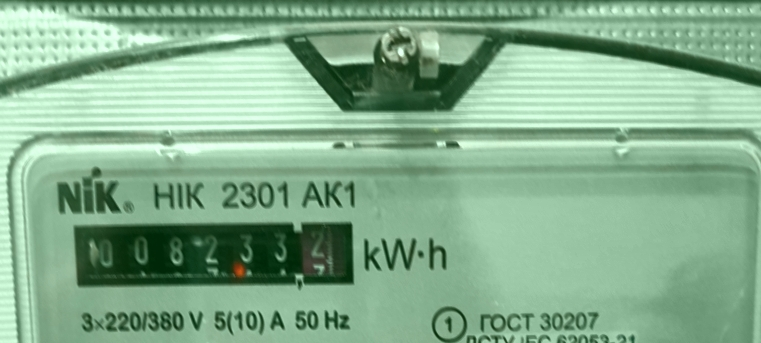0: (94, 236, 115, 269), (131, 234, 149, 266)
2: (200, 233, 220, 266), (308, 228, 326, 259)
3: (236, 232, 254, 264), (272, 230, 289, 262)
8: (166, 234, 184, 266)
screen: (63, 210, 364, 297)
